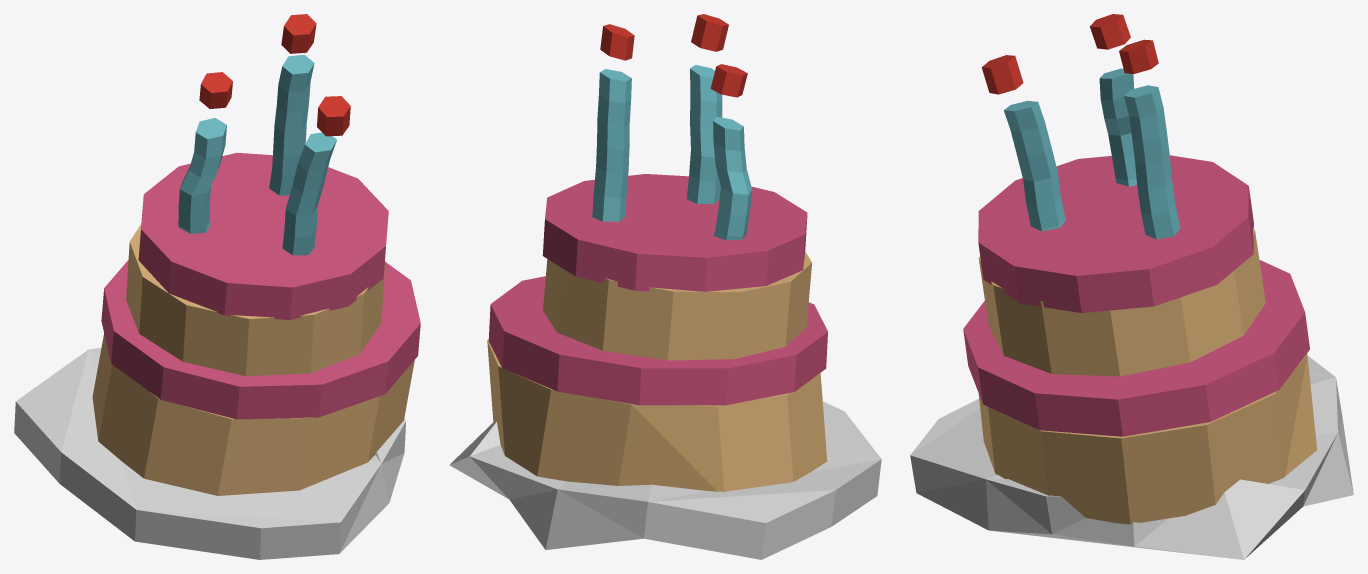
3 views of the same model, side by side, from view 1: azimuth 30°, elevation 25°; view 2: azimuth 150°, elevation 25°; view 3: azimuth 270°, elevation 25° (orthographic). The views are drawn at different scales.
Visible parts, largest first — view 1: node_MeshObject878367040-PolyPaper7; view 2: node_MeshObject878367040-PolyPaper7; view 3: node_MeshObject878367040-PolyPaper7.
Boxes of the visible parts, x1,y1,x2,y2 form: node_MeshObject878367040-PolyPaper7: [14, 14, 420, 559]; node_MeshObject878367040-PolyPaper7: [449, 14, 881, 559]; node_MeshObject878367040-PolyPaper7: [910, 14, 1353, 559].
Size of the model in its own units: 0.7235 by 0.9031 by 0.7478.
